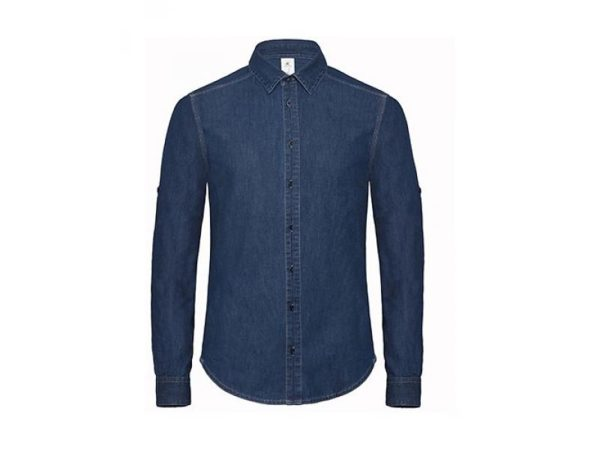Shirt: (148, 35, 433, 413)
